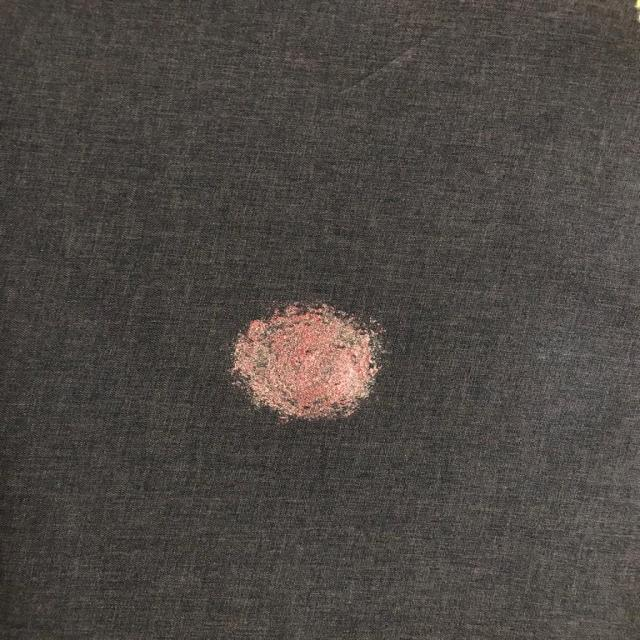Stain: (231, 303, 383, 420)
